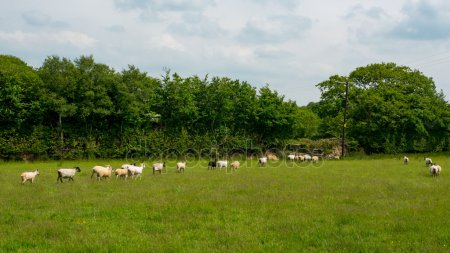sheep: (56, 166, 81, 183), (90, 164, 113, 182), (128, 162, 147, 181), (20, 169, 40, 185), (151, 161, 168, 176), (114, 167, 130, 182), (257, 154, 272, 169), (428, 163, 442, 178), (215, 159, 230, 171), (175, 160, 188, 173), (423, 157, 434, 168), (285, 154, 298, 163), (403, 155, 410, 166)
